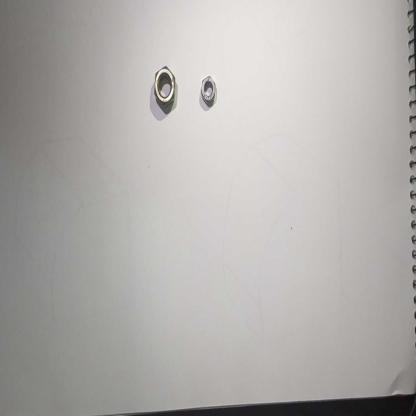NUTS: (152, 61, 176, 115), (198, 69, 218, 111)
